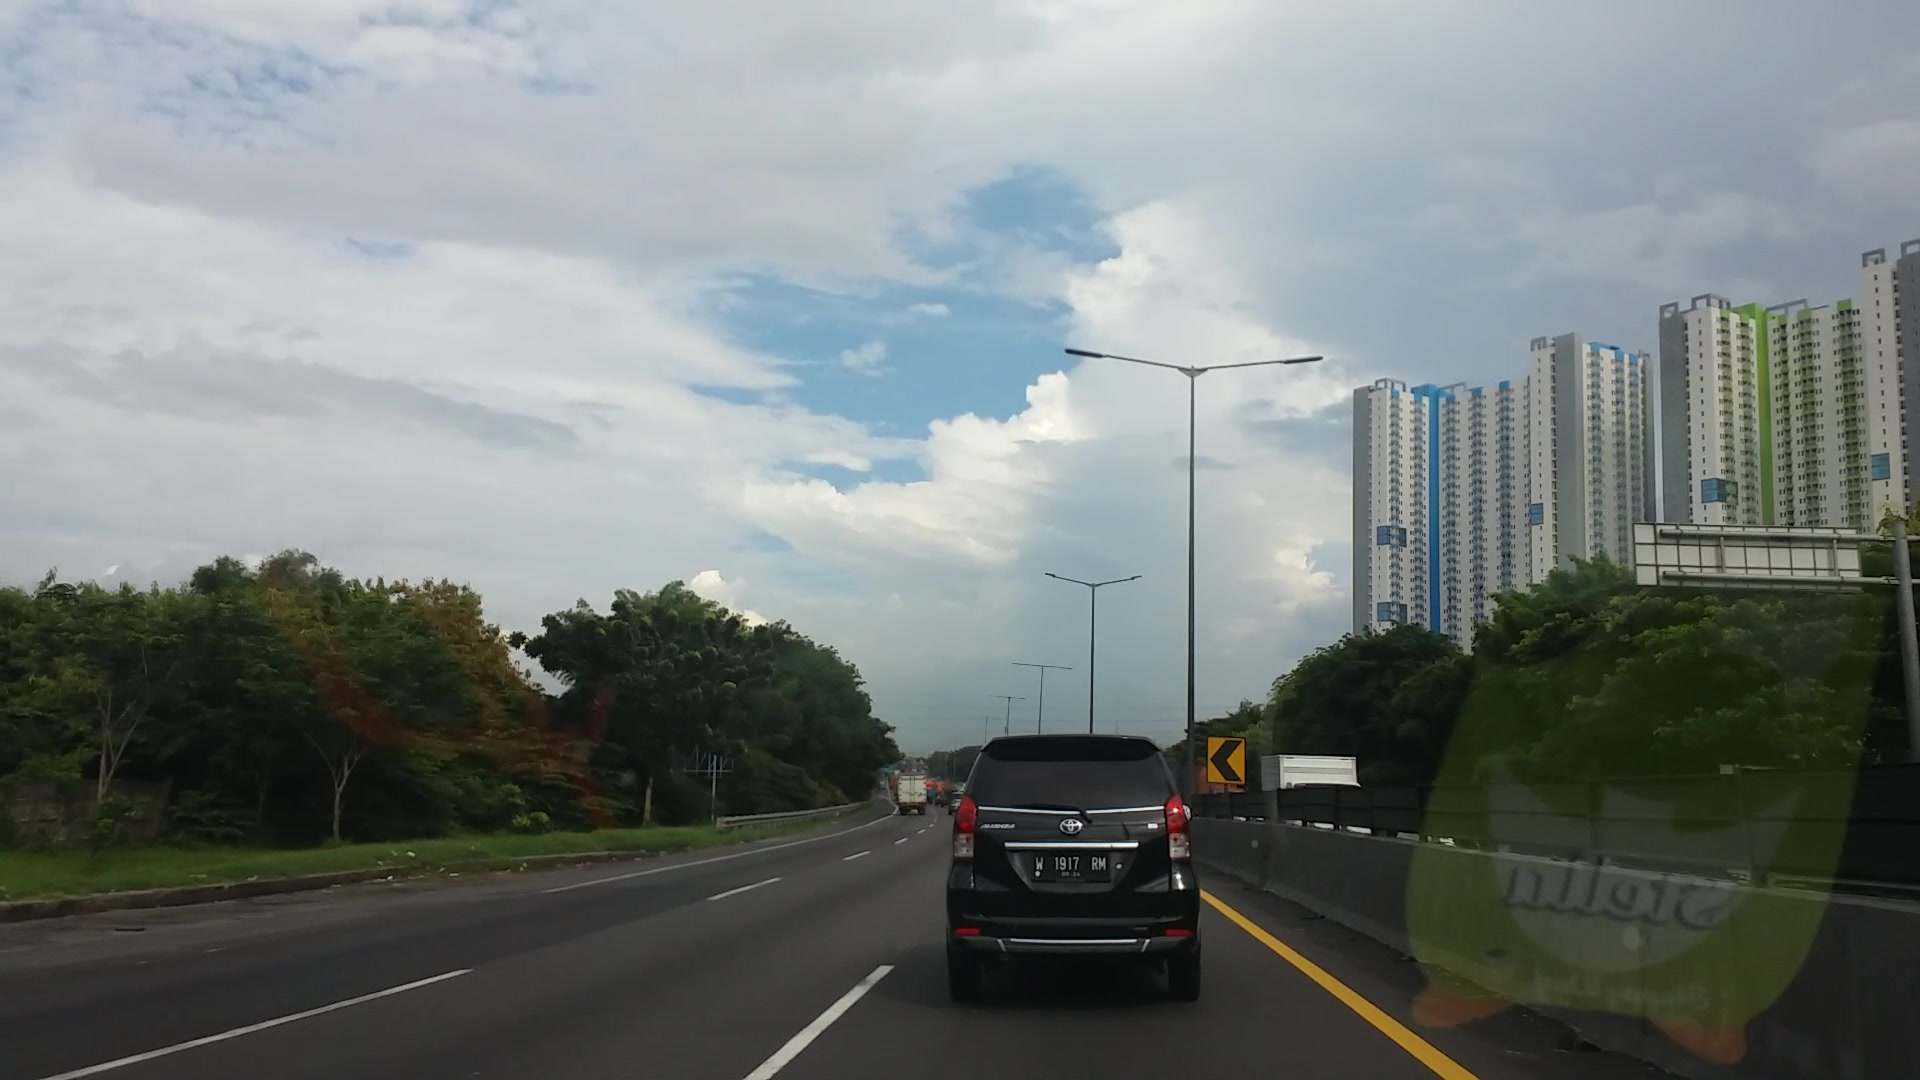plate_positive: (1033, 853, 1108, 880)
